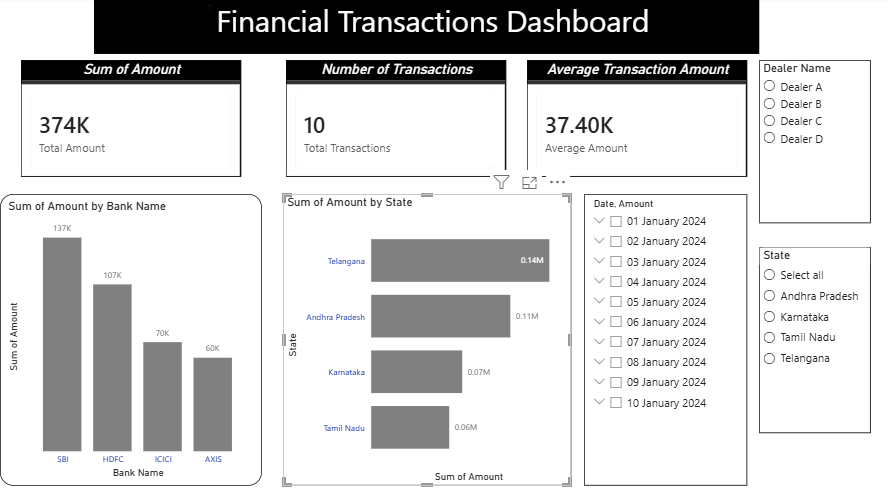

This screenshot's page, from the dashboard's own definition file:
{"tool":"powerbi","page":{"name":"Page 1","canvas":[1280,720],"ordinal":0},"visuals":[{"type":"cardVisual","title":"Number of Transactions","fields":{"Data":["financial transaction.Total Transactions"]},"box":[308.2,92.2,267.8,172.8],"z":0},{"type":"cardVisual","title":"Average Transaction Value","fields":{"Data":["financial transaction.Average Amount"]},"box":[622.1,92.2,345.6,172.8],"z":1000},{"type":"clusteredColumnChart","fields":{"Category":["financial transaction.Bank Name"],"Y":["Sum(financial transaction.Amount)"]},"box":[0,299.5,377.3,420.5],"z":2000},{"type":"clusteredBarChart","fields":{"Category":["financial transaction.State"],"Y":["Sum(financial transaction.Amount)"]},"box":[400.3,299.5,414.7,420.5],"z":3000},{"type":"cardVisual","title":"Total Transaction Amount","fields":{"Data":["Sum(financial transaction.Amount)"]},"box":[0,92.2,270.7,172.8],"z":4000},{"type":"slicer","fields":{"Values":["financial transaction.Date","financial transaction.Amount"]},"box":[841,299.5,252,420.5],"z":5000},{"type":"listSlicer","fields":{"Values":["financial transaction.State"]},"box":[1118.9,452.2,161.3,267.8],"z":6000},{"type":"listSlicer","fields":{"Values":["financial transaction.Dealer Name"]},"box":[1118.9,90.7,161.3,348.5],"z":7000},{"type":"textbox","box":[135.4,0,957.6,82.1],"z":8000}]}

Visuals, with their boxes in screenshot pixels (x1, y1, x2, y2), scaled from the page's 1280x720 canvas onto the 888x497 screenshot:
"Number of Transactions" cardVisual: (214, 64, 400, 183)
"Average Transaction Value" cardVisual: (432, 64, 671, 183)
clusteredColumnChart - financial transaction.Bank Name x Sum(financial transaction.Amount): (0, 207, 262, 496)
clusteredBarChart - financial transaction.State x Sum(financial transaction.Amount): (278, 207, 565, 496)
"Total Transaction Amount" cardVisual: (0, 64, 188, 183)
slicer - financial transaction.Date x financial transaction.Amount: (583, 207, 758, 496)
listSlicer - financial transaction.State: (776, 312, 887, 496)
listSlicer - financial transaction.Dealer Name: (776, 63, 887, 303)
textbox: (94, 0, 758, 57)
